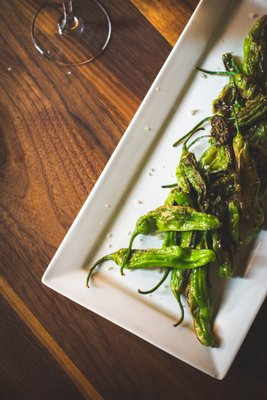curry: (133, 204, 220, 234)
